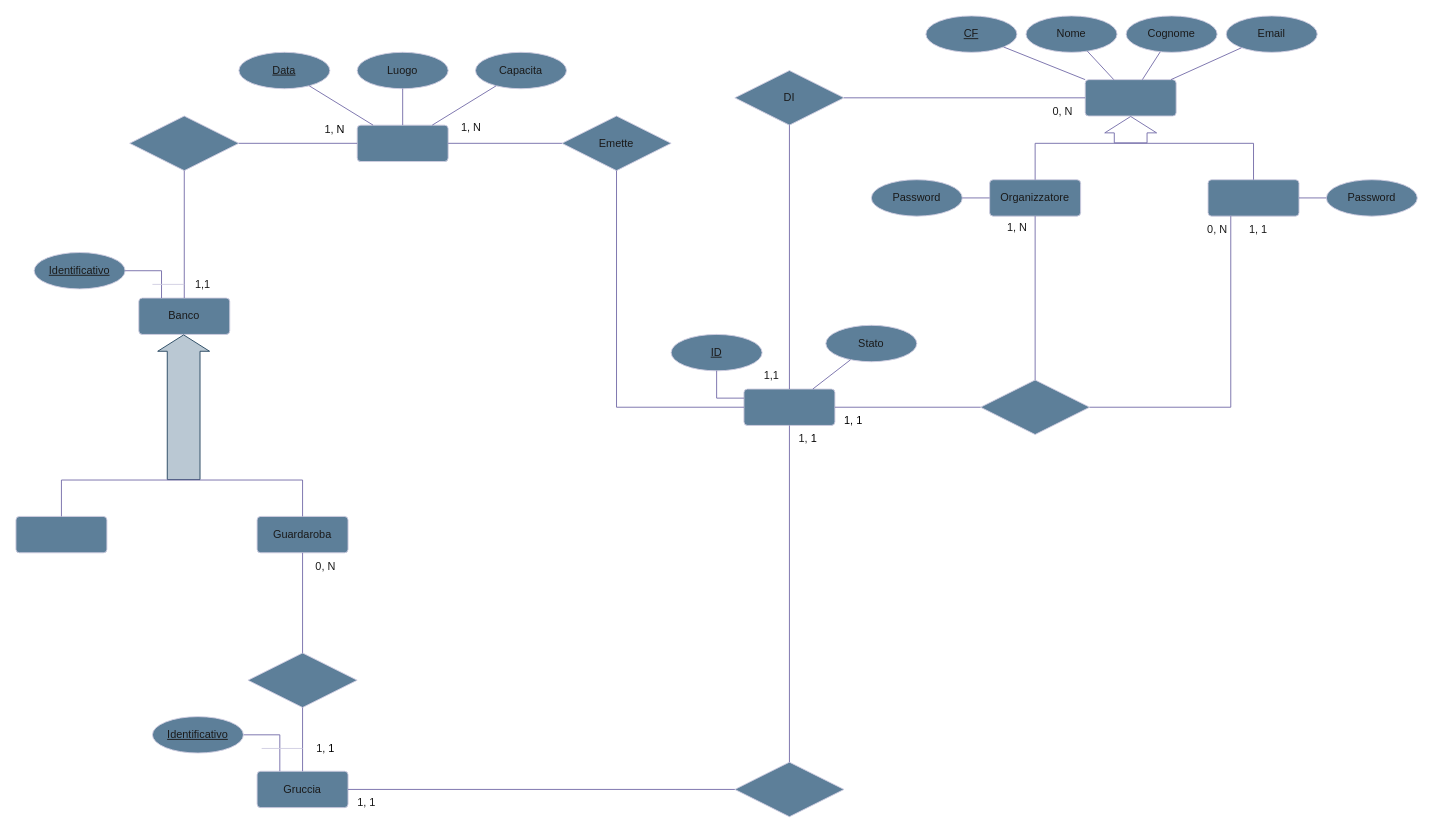
Some shapes in this 1433 by 833 pixel diagram are drawn without their labels. Here are the shapes that lost their labels. From the top down, the centre of each, then its label:
At point (1130, 97): "Persona".
At point (184, 143): "HA".
At point (402, 143): "Evento".
At point (1253, 197): "Staff".
At point (789, 406): "Biglietto".
At point (1035, 407): "Genera".
At point (61, 534): "Ingresso".
At point (302, 680): "Assegna".
At point (789, 789): "PER".
